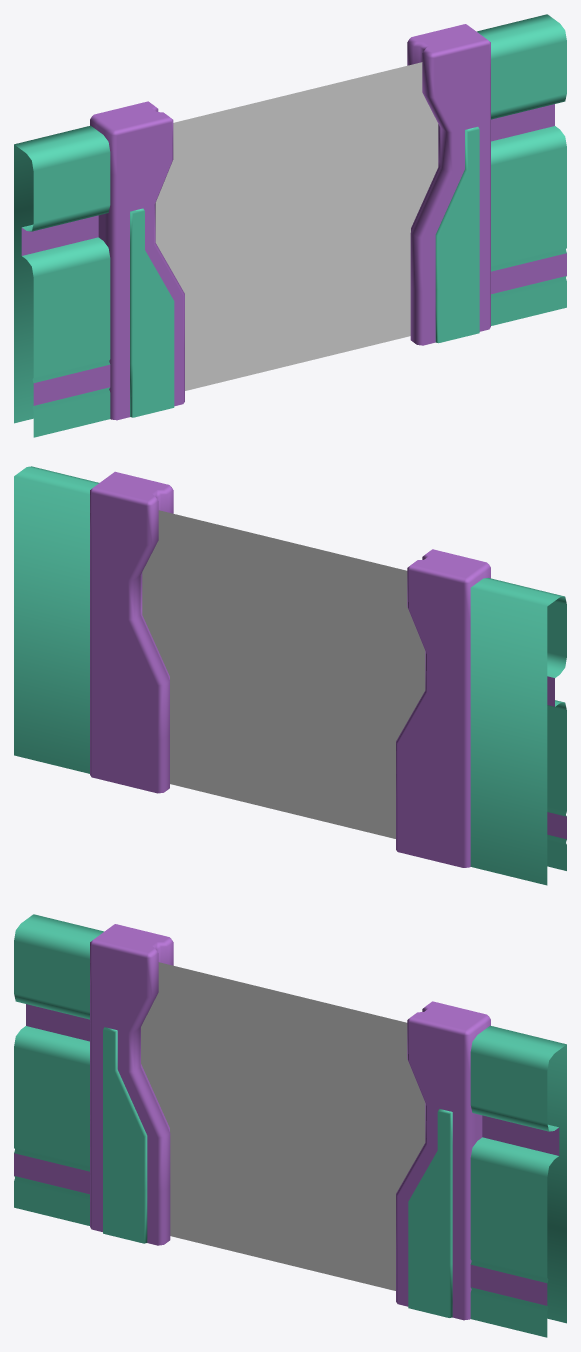
Rendered from Wall_Gate.FBX.
The picture shows the model from 3 angles, top to bottom: view 1: azimuth 30°, elevation 25°; view 2: azimuth 150°, elevation 25°; view 3: azimuth 330°, elevation 25°; orthographic projection.
Visible parts, largest first — view 1: Box008, Box009; view 2: Box008, Box009; view 3: Box008, Box009.
Part boxes in pixels (<box>): Box008: <box>14,14,566,437</box>; Box009: <box>155,62,438,390</box>; Box008: <box>14,466,566,885</box>; Box009: <box>142,510,425,838</box>; Box008: <box>14,914,566,1337</box>; Box009: <box>141,962,425,1290</box>.
Size of the model in its own units: 600 by 310 by 54.66.
